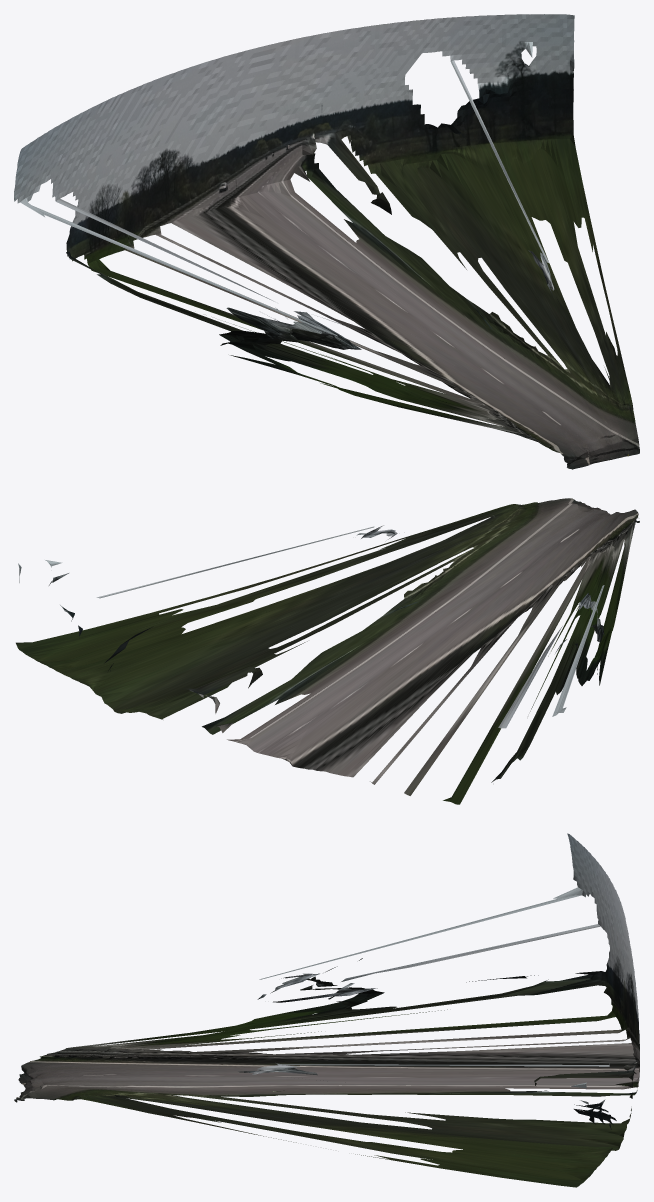
The picture shows the model from 3 angles, top to bottom: view 1: azimuth 30°, elevation 25°; view 2: azimuth 150°, elevation 25°; view 3: azimuth 270°, elevation 25°; orthographic projection. The views are drawn at different scales.
Visible parts, largest first — view 1: defaultobject; view 2: defaultobject; view 3: defaultobject.
Boxes of the visible parts, left/top/right/bottom form: defaultobject: left=14, top=14, right=639, bottom=469; defaultobject: left=16, top=498, right=639, bottom=804; defaultobject: left=14, top=833, right=639, bottom=1187.
Size of the model in its own units: 41.05 by 11.97 by 44.59.
1 material, 1 textured.
